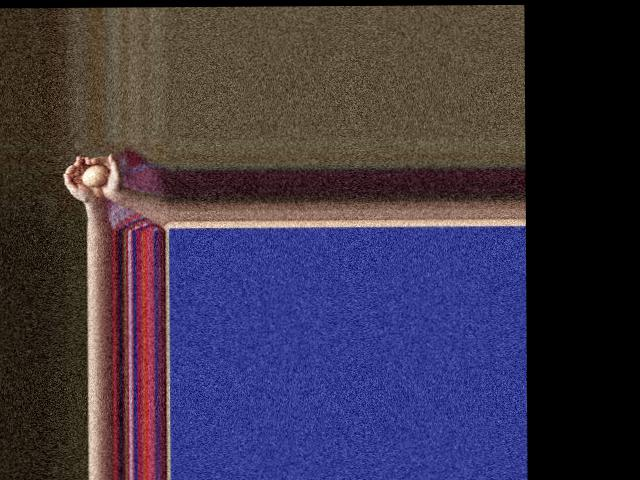egg: (82, 164, 108, 186)
